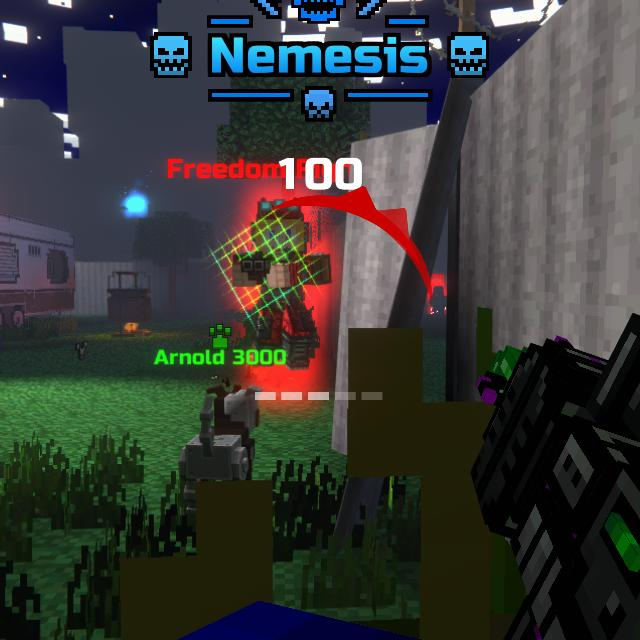Enemy: (233, 200, 334, 370), (428, 283, 444, 312)
